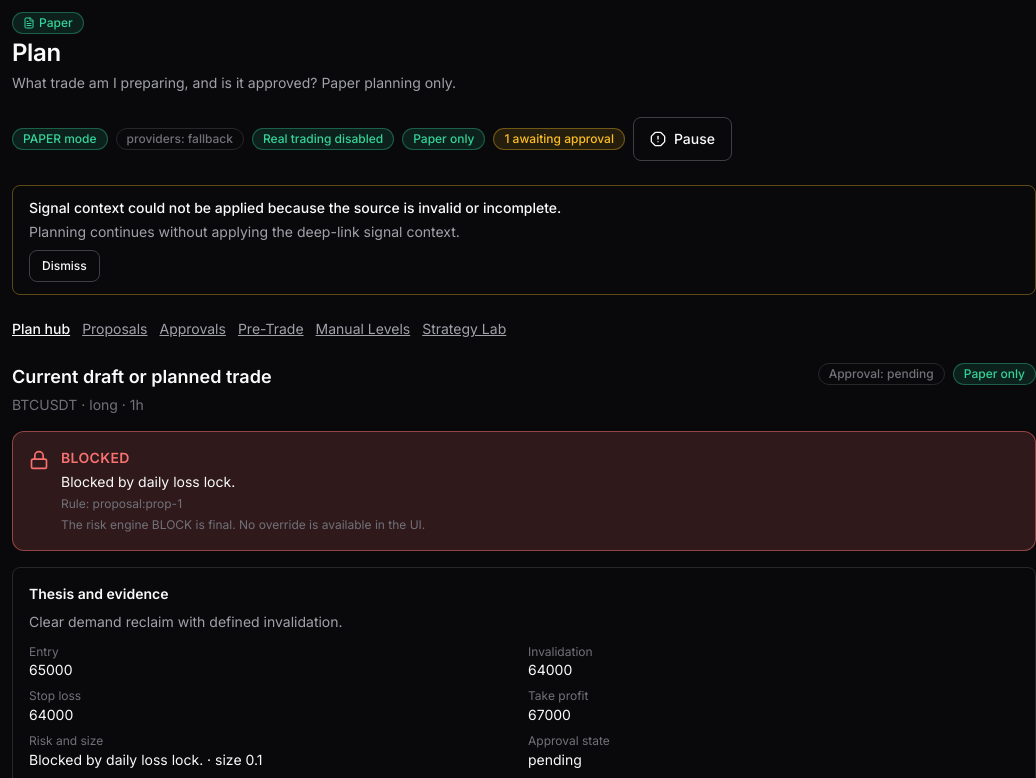
Test: Plan hub Phase C1 corrections › shows a dismissible notice when plan deep-link context is invalid
Expected: the message with test id "plan-signal-context-invalid" shows "Signal context could not be applied", [29,199,561,216]
Click the button with test id "plan-signal-context-dismiss" at coordinates (64, 266), box [29,250,100,282]
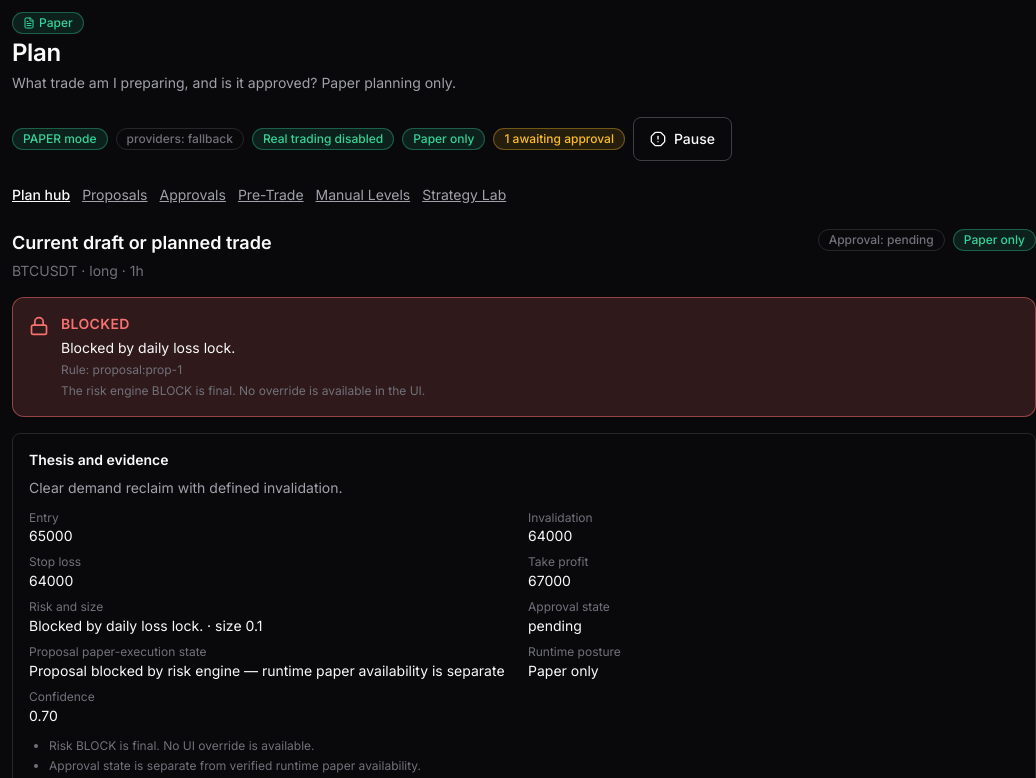
Expected: the message with test id "plan-signal-context-invalid" is gone
